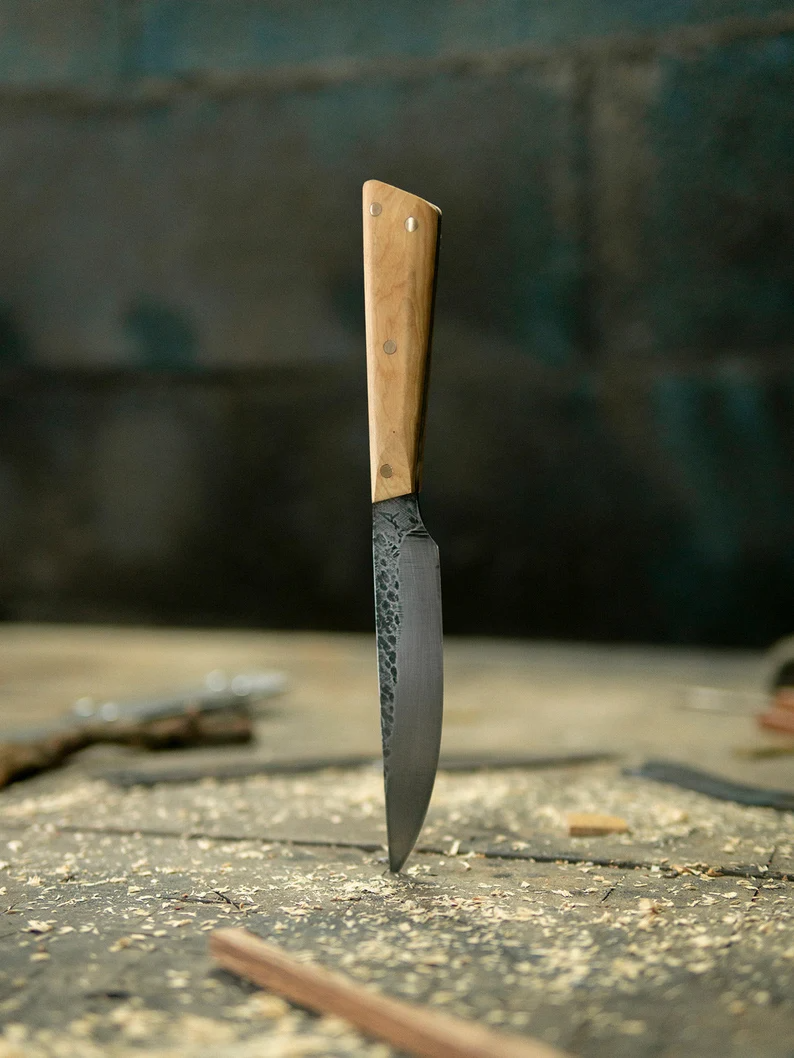knife: (336, 168, 470, 894)
